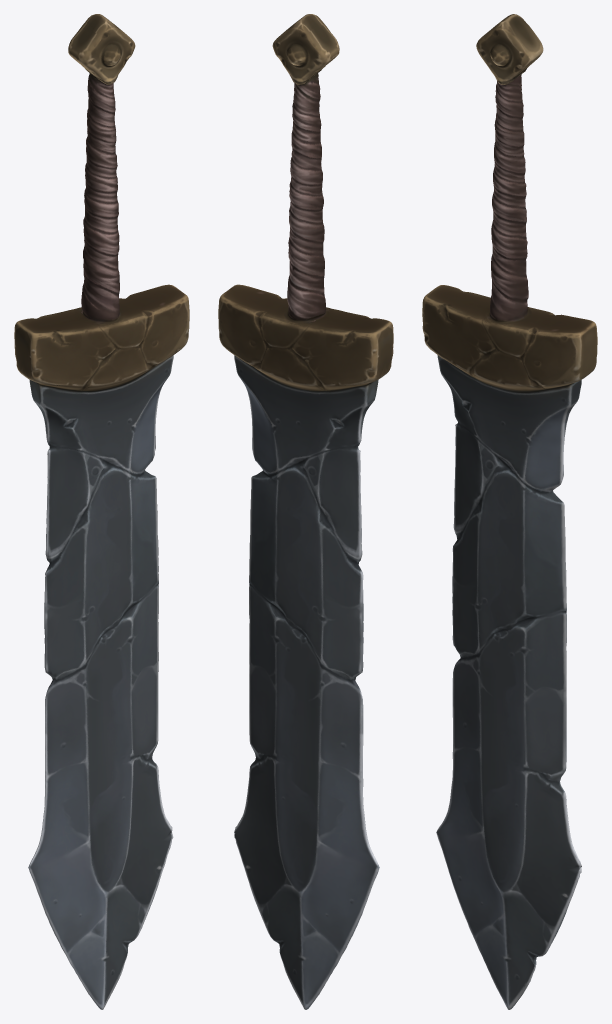
Rendered from SM_CommonSword.FBX.
The picture shows the model from 3 angles, left to right: view 1: azimuth 30°, elevation 25°; view 2: azimuth 150°, elevation 25°; view 3: azimuth 330°, elevation 25°; orthographic projection.
Visible parts, largest first — view 1: SM_CommonSword; view 2: SM_CommonSword; view 3: SM_CommonSword.
Part boxes in pixels (bbox=[...]): SM_CommonSword: bbox=[14, 14, 189, 1009]; SM_CommonSword: bbox=[218, 14, 393, 1009]; SM_CommonSword: bbox=[422, 14, 597, 1009].
Bounding box in the file's own units: 19.56 × 6.09 × 116.
